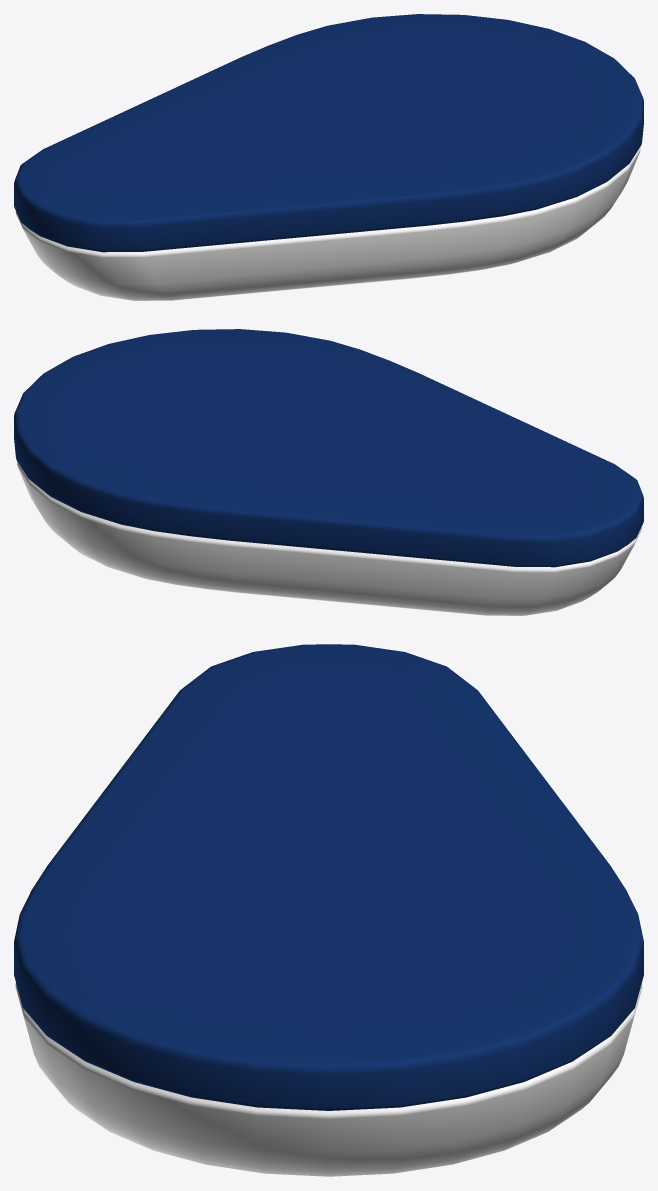
The model's file is StylishArrowGeo.fbx.
3 views of the same model, one above another, from view 1: azimuth 30°, elevation 25°; view 2: azimuth 150°, elevation 25°; view 3: azimuth 270°, elevation 25° (orthographic). The views are drawn at different scales.
Parts seen in each view (by area): view 1: Mod02Arrow; view 2: Mod02Arrow; view 3: Mod02Arrow.
Part boxes in pixels (x1,y1,x2,y2): Mod02Arrow: [14, 14, 643, 300]; Mod02Arrow: [14, 329, 643, 615]; Mod02Arrow: [14, 644, 643, 1176].
Bounding box in the file's own units: 22.71 × 3.45 × 14.22.
